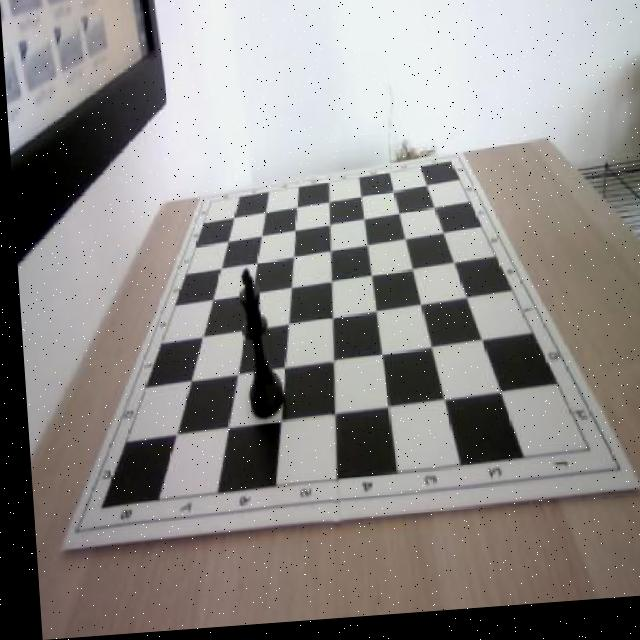black-bishop: (232, 266, 281, 426)
